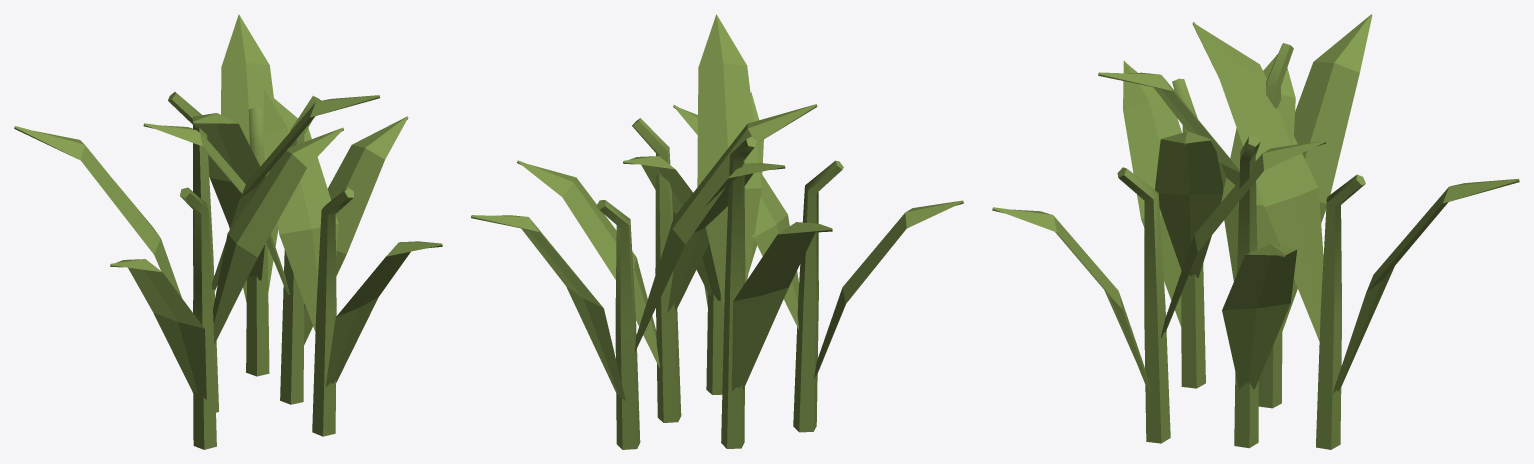
The model's file is crop_barley_sprout.glb.
3 views of the same model, side by side, from view 1: azimuth 30°, elevation 25°; view 2: azimuth 150°, elevation 25°; view 3: azimuth 270°, elevation 25° (orthographic). The views are drawn at different scales.
Visible parts, largest first — view 1: barley_leaf_0_0; view 2: barley_leaf_0_0; view 3: barley_leaf_0_0.
Boxes of the visible parts, x1,y1,x2,y2 form: barley_leaf_0_0: (14,14,442,449); barley_leaf_0_0: (471,14,963,449); barley_leaf_0_0: (992,14,1519,449).
Bounding box in the file's own units: 0.2769 × 0.2488 × 0.3118.
